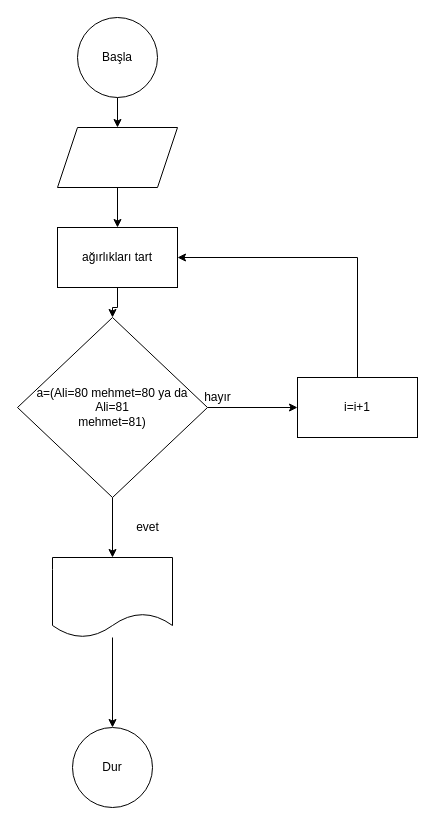
This 435x825 diagram has some shape labels left out. The centre of each missing label's shape, as x and y in pixels:
a/i*100: pixel 112 597
Ali,Mehmet, Gerçek Ağırlık: pixel 117 157
